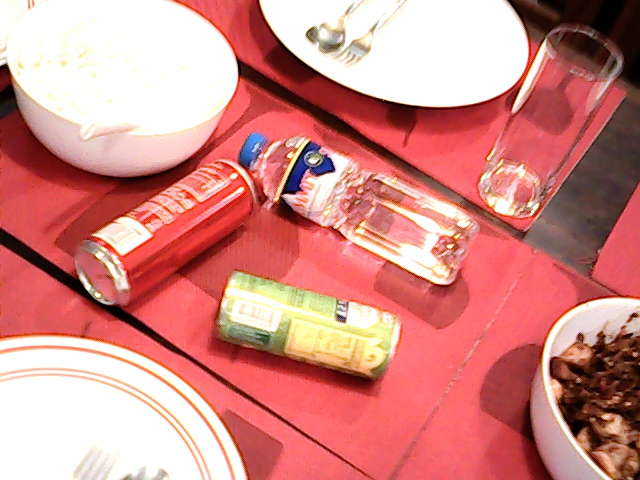Cola: (77, 153, 250, 318)
Pine Juice: (211, 267, 401, 383)
Summit Water: (249, 123, 471, 263)
